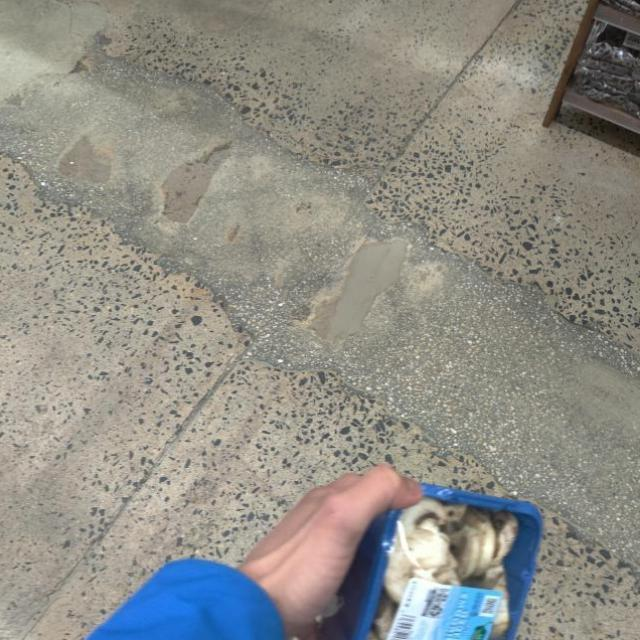Meat: (347, 483, 544, 640)
